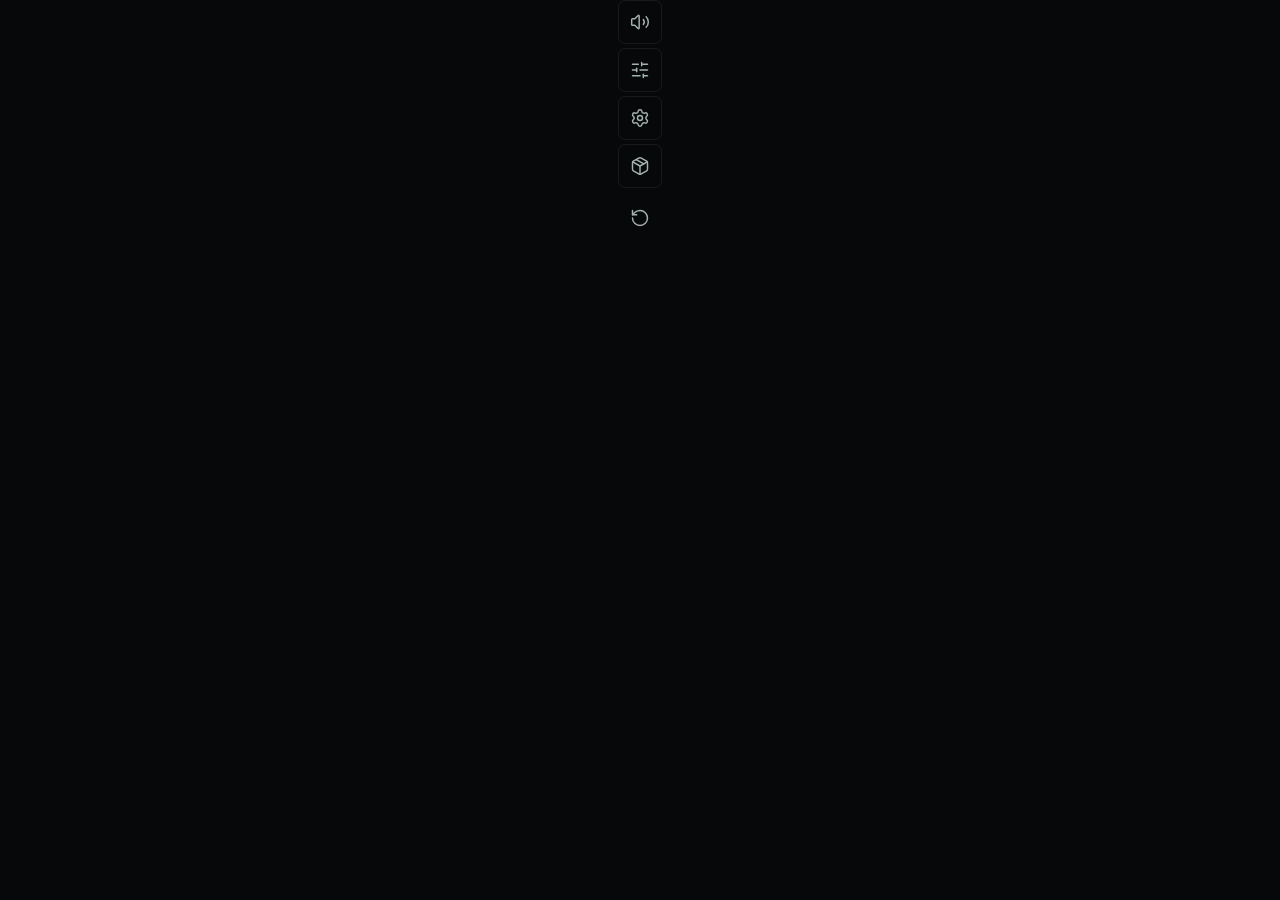
ToolRail — GM Overrides drawer › opens the Overrides drawer when the launcher is clicked
This screenshot has width=1280, height=900.
Click the button with test id "btn-tool-overrides" at (640, 70), box [618, 48, 662, 92]
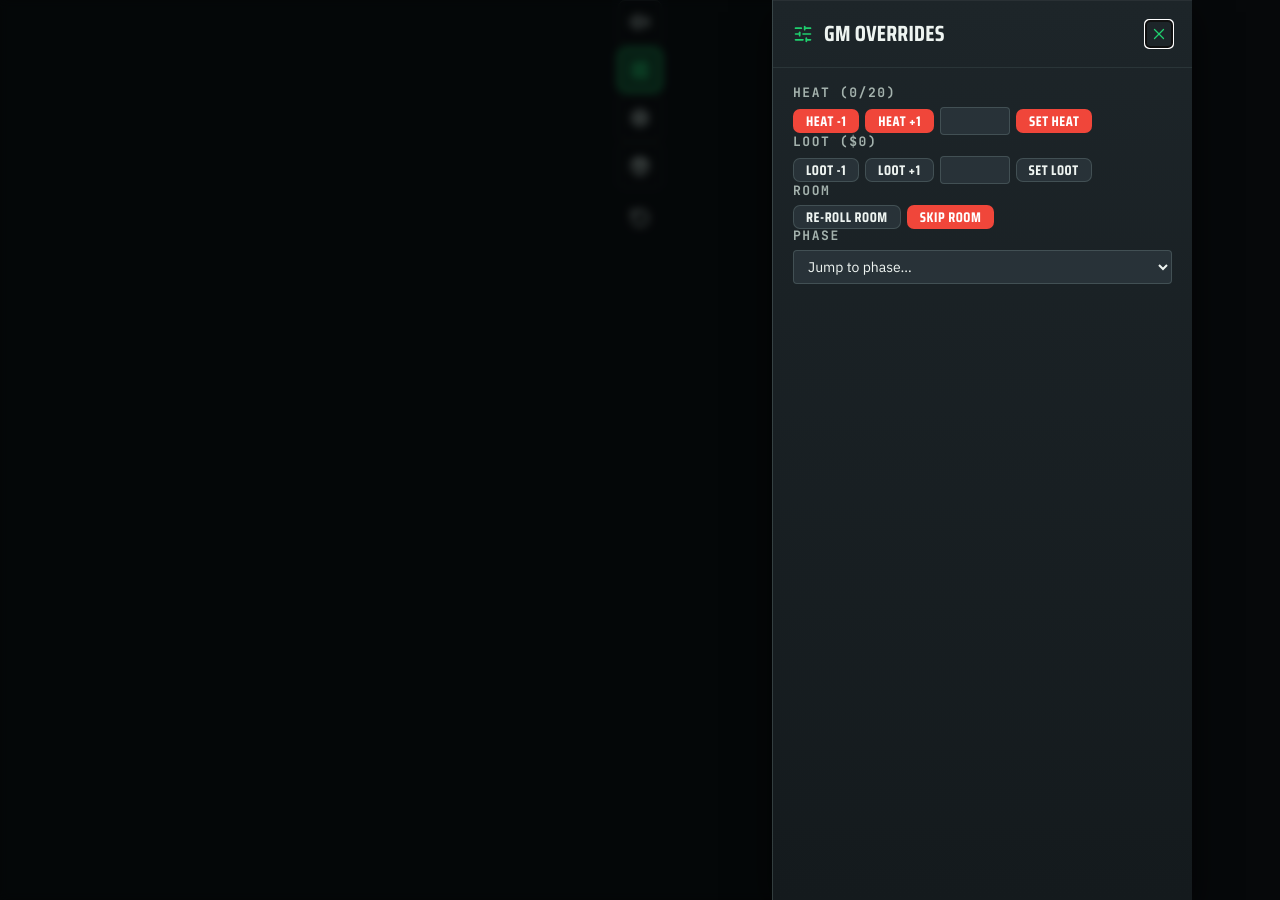
Expected: the element with test id "drawer-overrides" is shown, [772, 0, 1192, 899]
